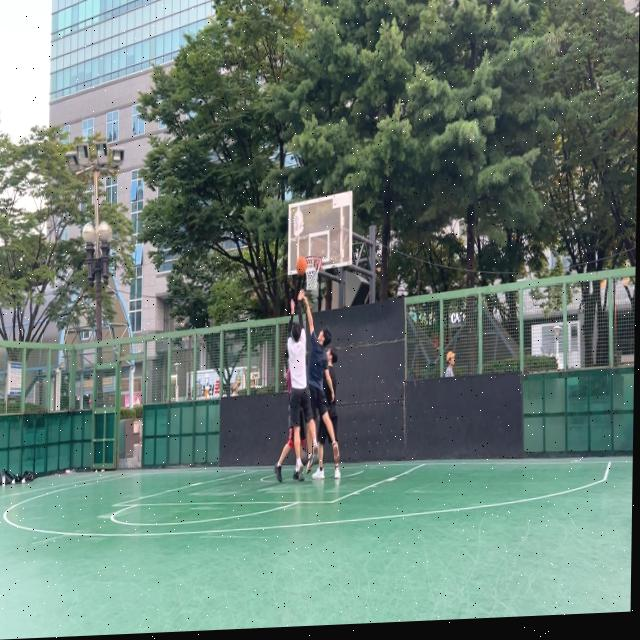basketball: (295, 256, 307, 276)
hoop: (305, 255, 322, 292)
